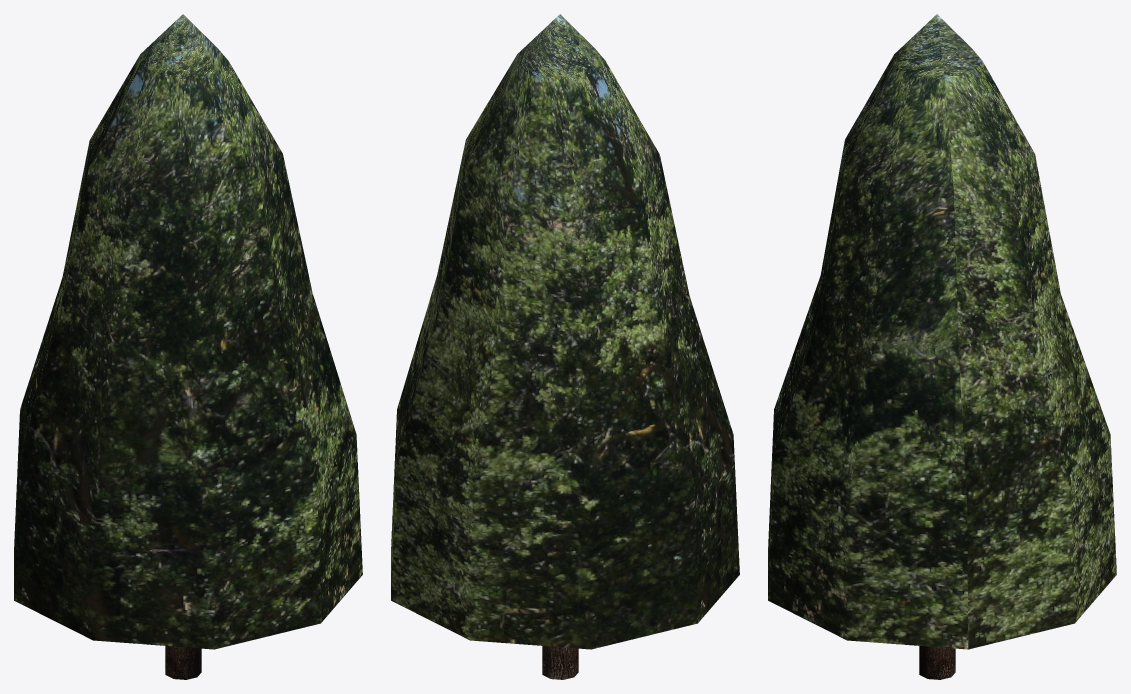
The model's file is treecedar1.fbx.
The picture shows the model from 3 angles, left to right: view 1: azimuth 30°, elevation 25°; view 2: azimuth 150°, elevation 25°; view 3: azimuth 270°, elevation 25°; orthographic projection.
Visible parts, largest first — view 1: treecedar1; view 2: treecedar1; view 3: treecedar1.
Part boxes in pixels (<box>): treecedar1: <box>14,14,362,679</box>; treecedar1: <box>391,14,739,679</box>; treecedar1: <box>768,14,1116,679</box>.
Size of the model in its own units: 963 by 1975 by 948.
